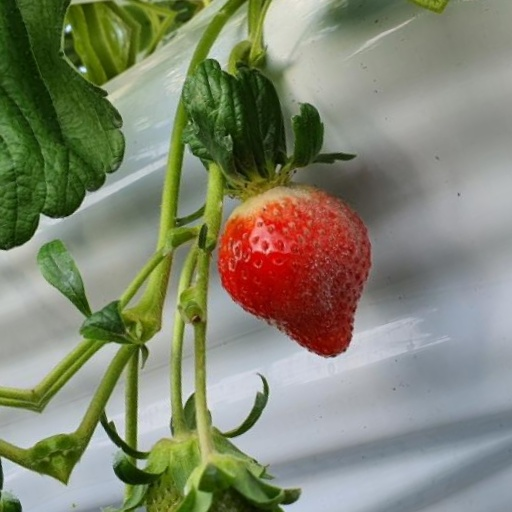Powdery Mildew Fruit: (282, 200, 369, 343)
